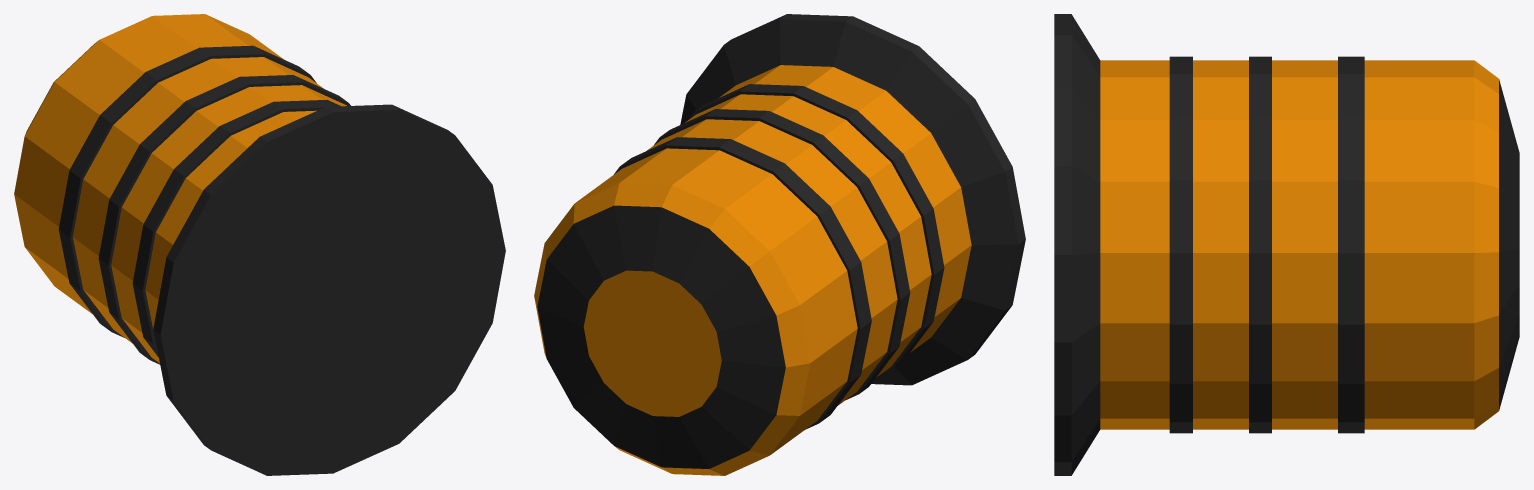
Rendered from Cone_Large.fbx.
The picture shows the model from 3 angles, left to right: view 1: azimuth 30°, elevation 25°; view 2: azimuth 150°, elevation 25°; view 3: azimuth 270°, elevation 25°; orthographic projection. The views are drawn at different scales.
Parts seen in each view (by area): view 1: Cone_Large; view 2: Cone_Large; view 3: Cone_Large.
Part boxes in pixels (<box>): Cone_Large: <box>14,14,505,475</box>; Cone_Large: <box>534,14,1025,475</box>; Cone_Large: <box>1054,14,1519,475</box>.
Size of the model in its own units: 100 by 100 by 101.
